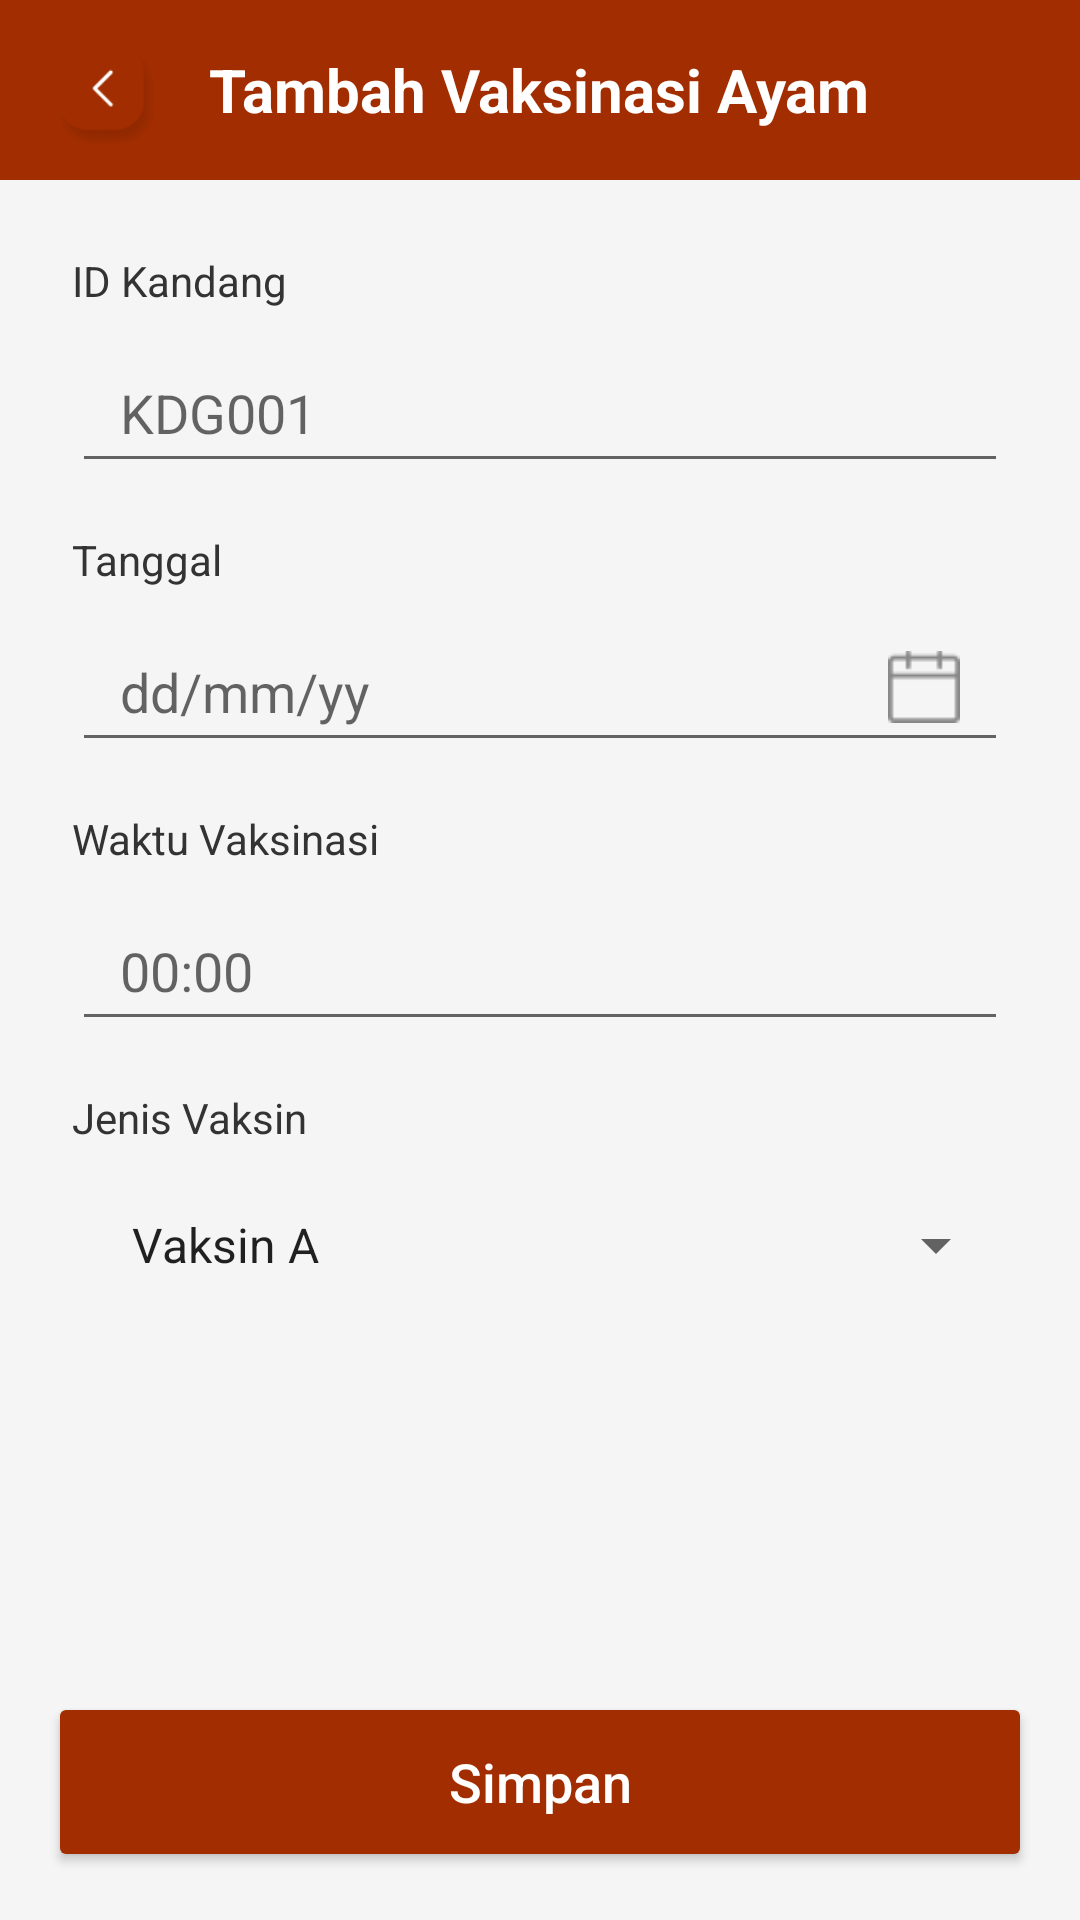

Icon click points for this 1080w x 1920h phone screenshot, format (x,y):
back: (103,88)
calendar: (924,687)
